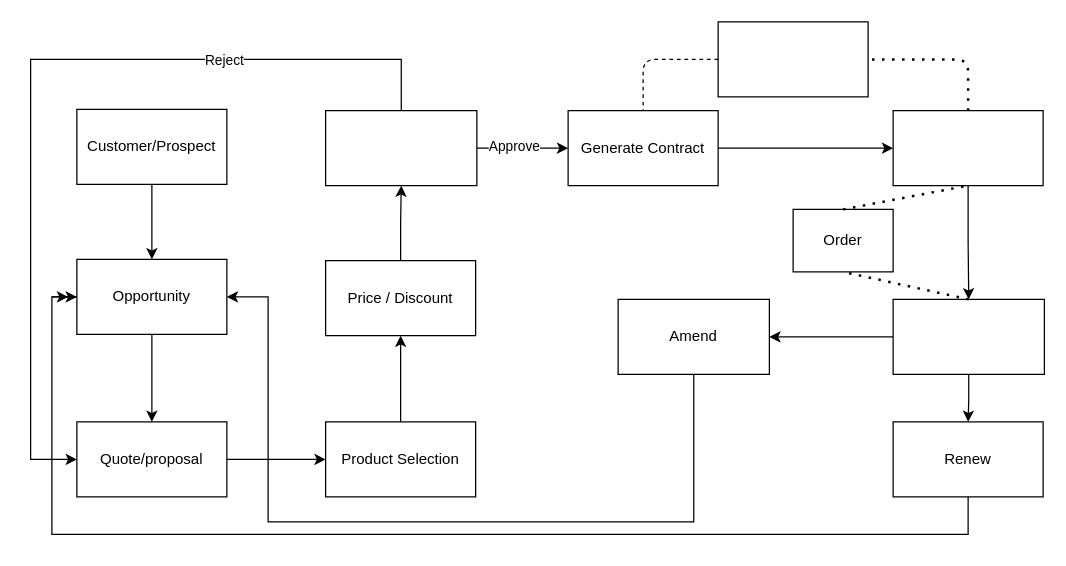
This 1066x566 diagram has some shape labels left out. Here are the shapes that lost their labels. From the top down, the centre of each, then its label:
[792,59]: Adobe Sign eSignature
[400,147]: Pricing Approval
[967,147]: Cosed/Won
[968,336]: Contract/Subscription Asset
